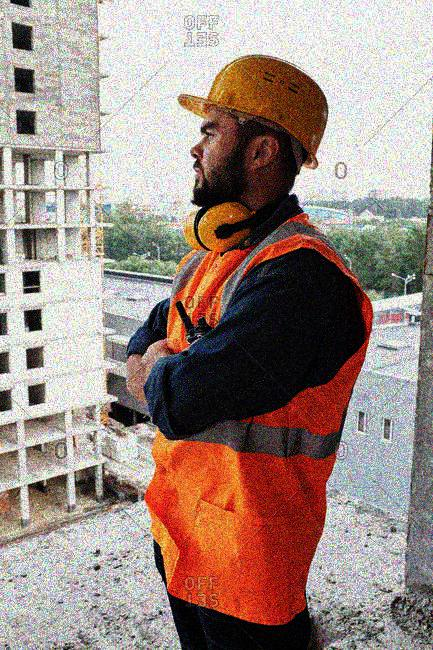helmet: (174, 51, 329, 207)
